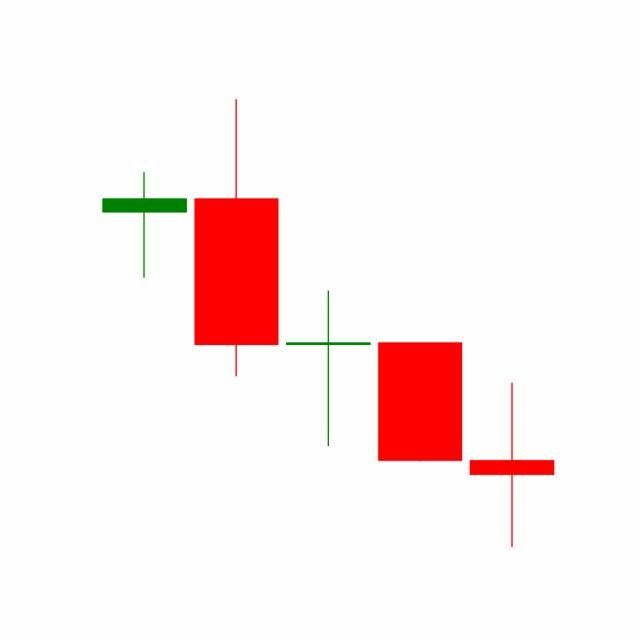Marubozu: (374, 342, 468, 465)
